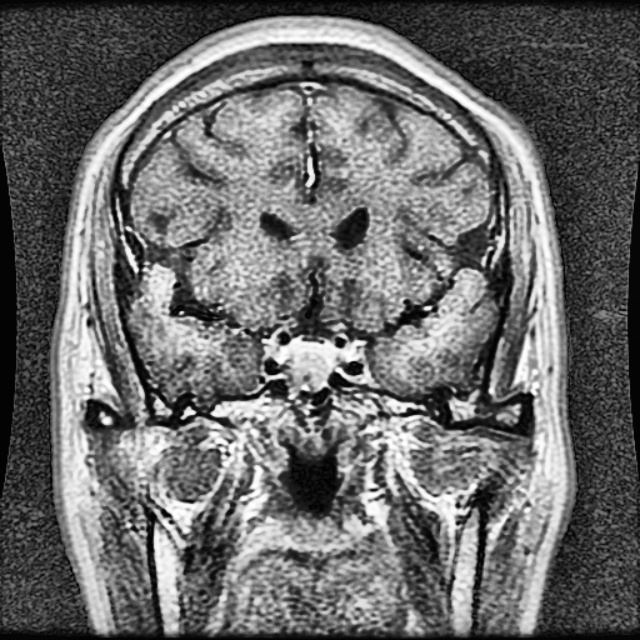Pituitary: (279, 337, 335, 392)
